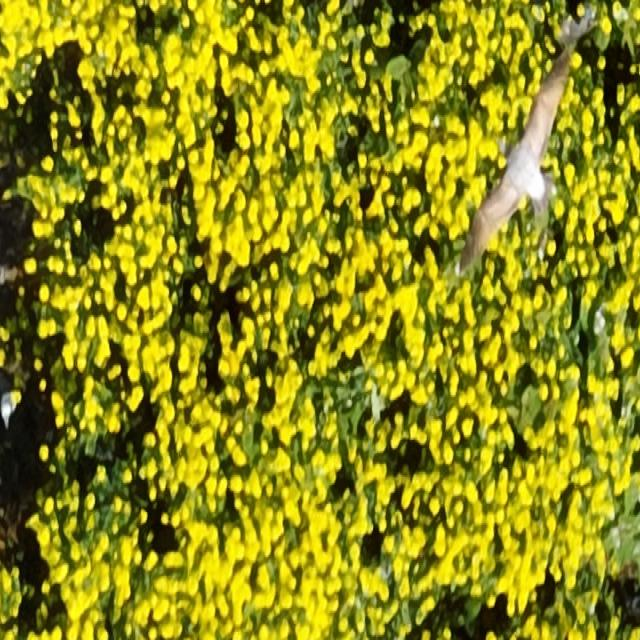F: (468, 58, 564, 258)
umineko: (1, 388, 21, 438)
